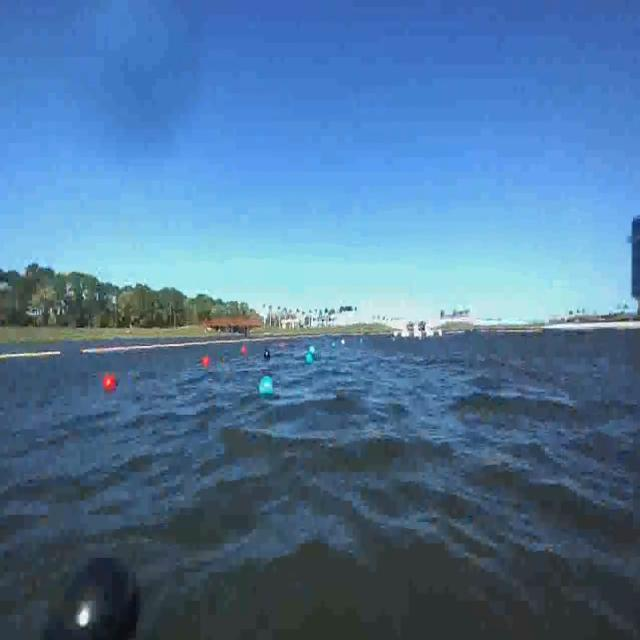black-buoy: (39, 541, 147, 640)
green-buoy: (261, 374, 276, 394), (305, 354, 313, 365)
red-buoy: (104, 373, 116, 392), (203, 356, 210, 366)
